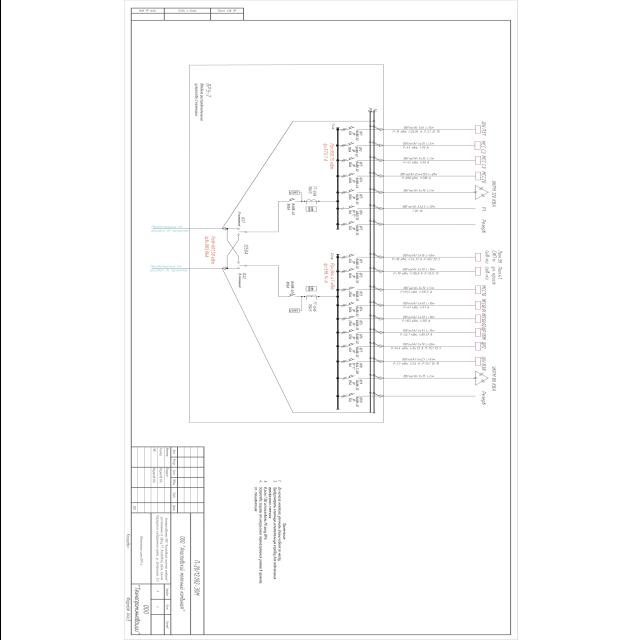-: (204, 82, 212, 99), (346, 147, 358, 157), (285, 203, 295, 215), (348, 362, 358, 374), (284, 281, 294, 293), (347, 348, 358, 358), (347, 130, 358, 140), (347, 225, 358, 235), (347, 258, 358, 268), (347, 210, 358, 220), (347, 334, 358, 344), (347, 320, 358, 330), (348, 291, 358, 301), (348, 194, 358, 204), (348, 380, 358, 390), (348, 162, 358, 172), (348, 306, 358, 316), (348, 178, 358, 188), (348, 272, 358, 282), (348, 397, 358, 407), (307, 302, 316, 312), (308, 186, 316, 197), (242, 244, 248, 254)
QF: (347, 392, 357, 397), (347, 375, 358, 379), (286, 198, 296, 202), (347, 221, 357, 225), (347, 172, 357, 176), (347, 157, 357, 161), (346, 142, 356, 146), (346, 126, 356, 130), (286, 294, 296, 298), (347, 358, 357, 362), (347, 343, 357, 347), (348, 329, 358, 333), (347, 316, 357, 320), (347, 302, 357, 306), (348, 286, 358, 290), (347, 268, 357, 272), (347, 254, 357, 258), (347, 205, 357, 209), (347, 190, 357, 193)
TT: (304, 294, 316, 301), (304, 199, 316, 205)
WH: (304, 286, 316, 292), (304, 206, 316, 212)
switch: (236, 262, 246, 270), (236, 228, 246, 235)
